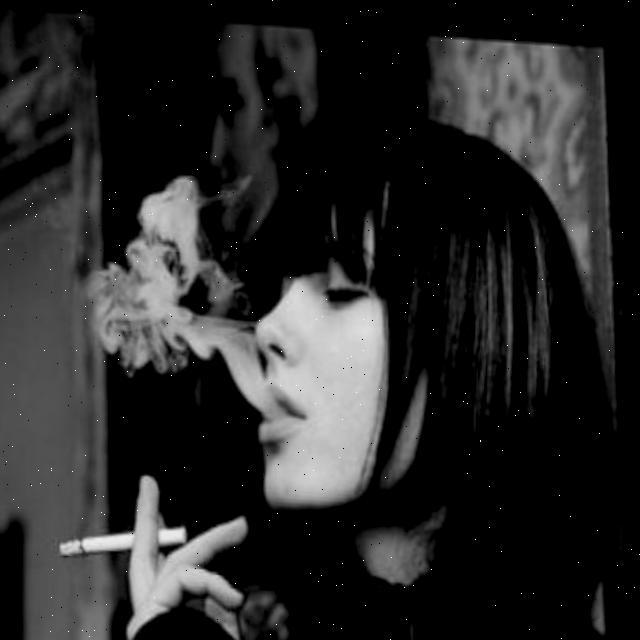cigarette: (57, 512, 191, 566)
